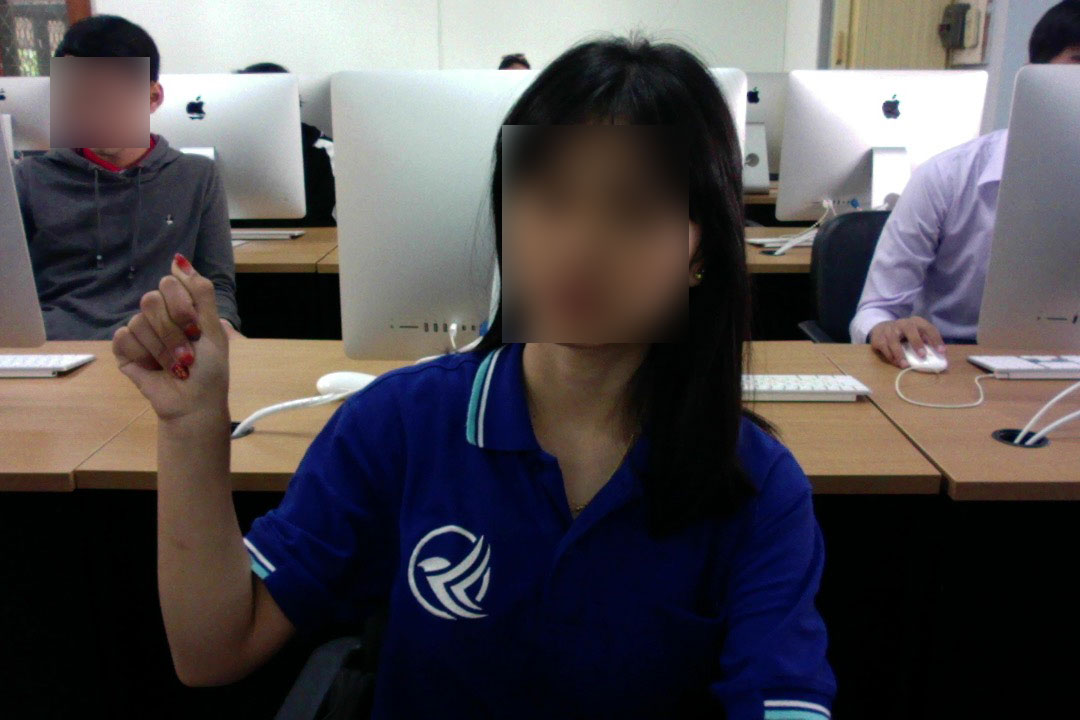or: (107, 243, 241, 436)
